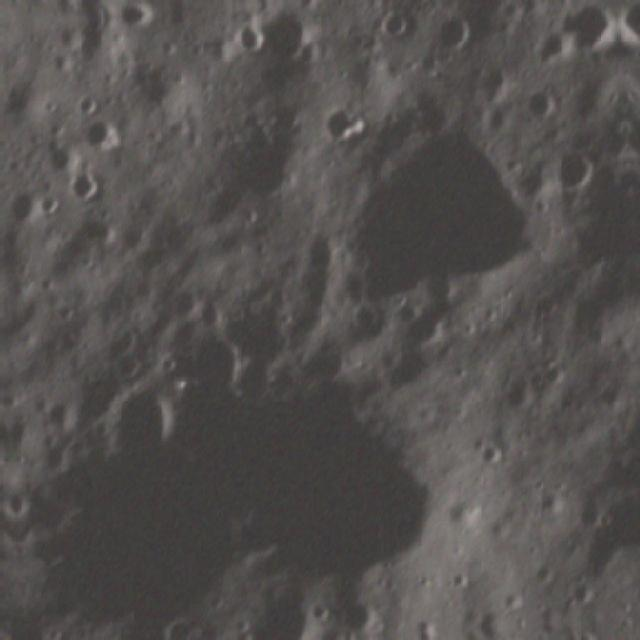crater: (332, 117, 554, 312), (102, 375, 189, 462), (182, 325, 260, 413), (574, 484, 640, 588), (254, 0, 323, 78), (392, 298, 462, 358), (558, 0, 619, 57), (74, 103, 129, 159), (519, 22, 573, 78), (424, 11, 482, 63), (307, 106, 370, 152), (338, 589, 393, 636), (42, 128, 89, 180), (552, 145, 602, 192), (440, 491, 489, 537), (32, 434, 82, 478), (0, 182, 43, 232), (229, 15, 271, 66), (502, 366, 544, 414), (518, 85, 560, 124), (538, 352, 572, 398), (376, 5, 416, 44), (64, 167, 104, 205), (612, 261, 640, 313), (111, 12, 169, 36), (160, 611, 206, 640), (469, 436, 506, 472), (12, 480, 40, 526), (70, 86, 104, 120), (38, 189, 65, 220), (432, 0, 512, 6), (213, 3, 264, 12)
